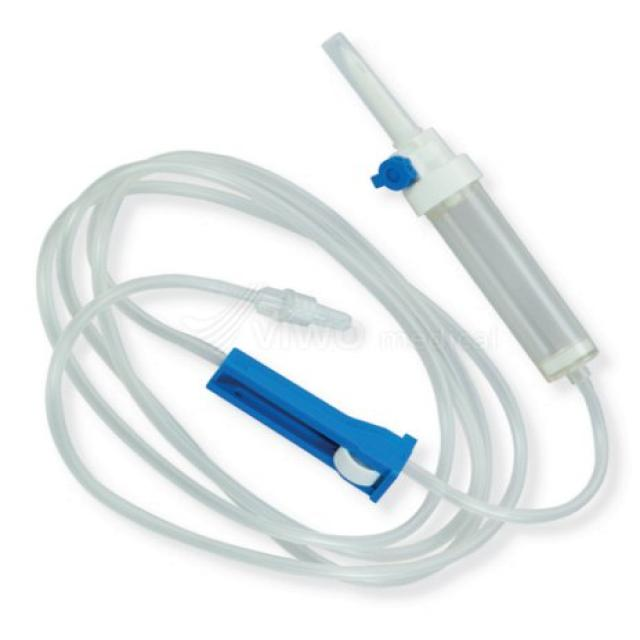B3: (27, 22, 622, 585)
